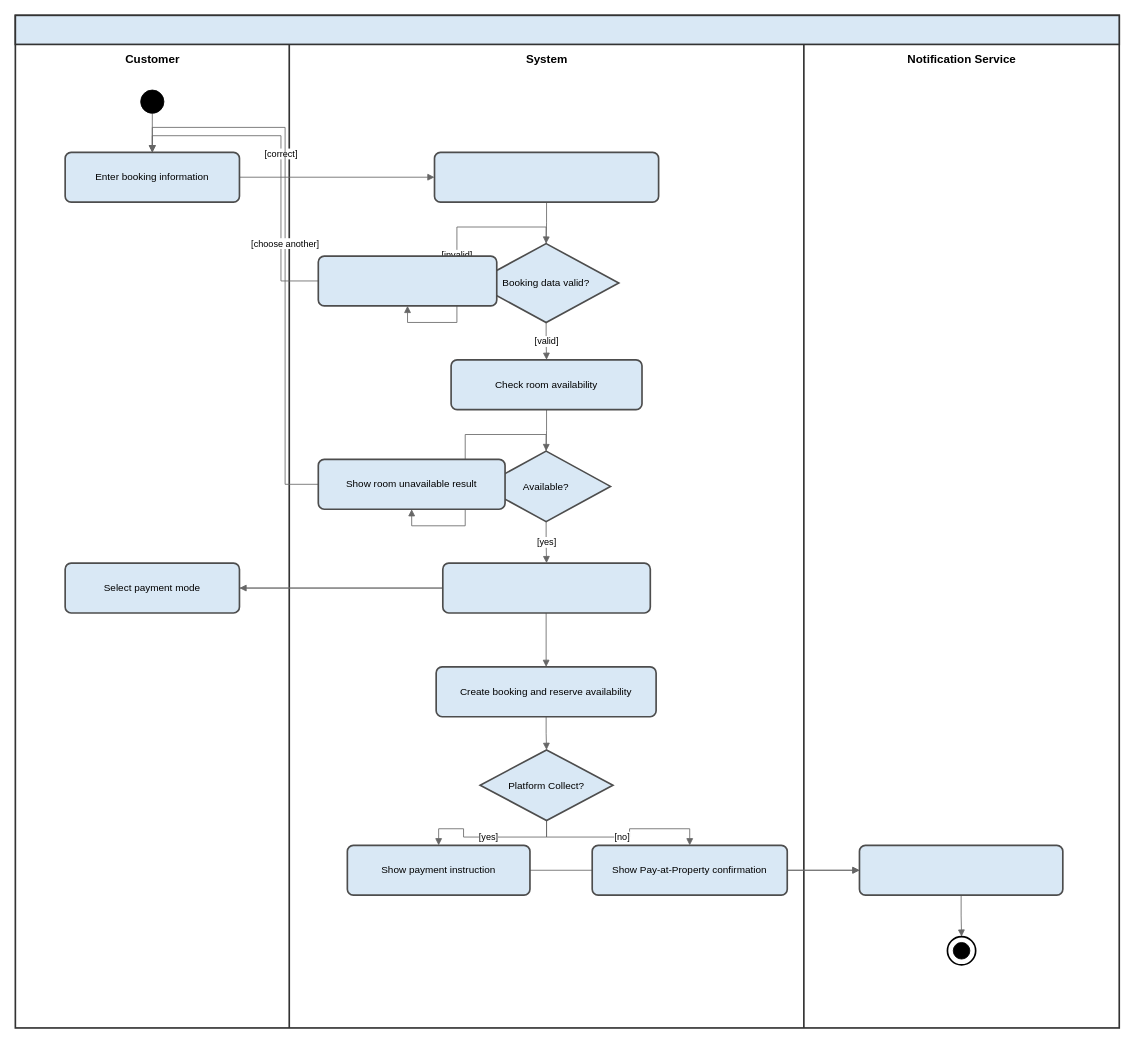
Image size: 1134x1043. Some labels were removed from this diagram. Each missing label, with the centre of its shape:
Calculate room-price-only amount: [546,587]
FIG-SRS-006 - Activity Diagram: UC-005 Create Booking Activity Stages: [567,29]
Record booking notification event: [960,870]
Show validation message: [407,280]
Validate date, guest count, and quantity: [546,177]
